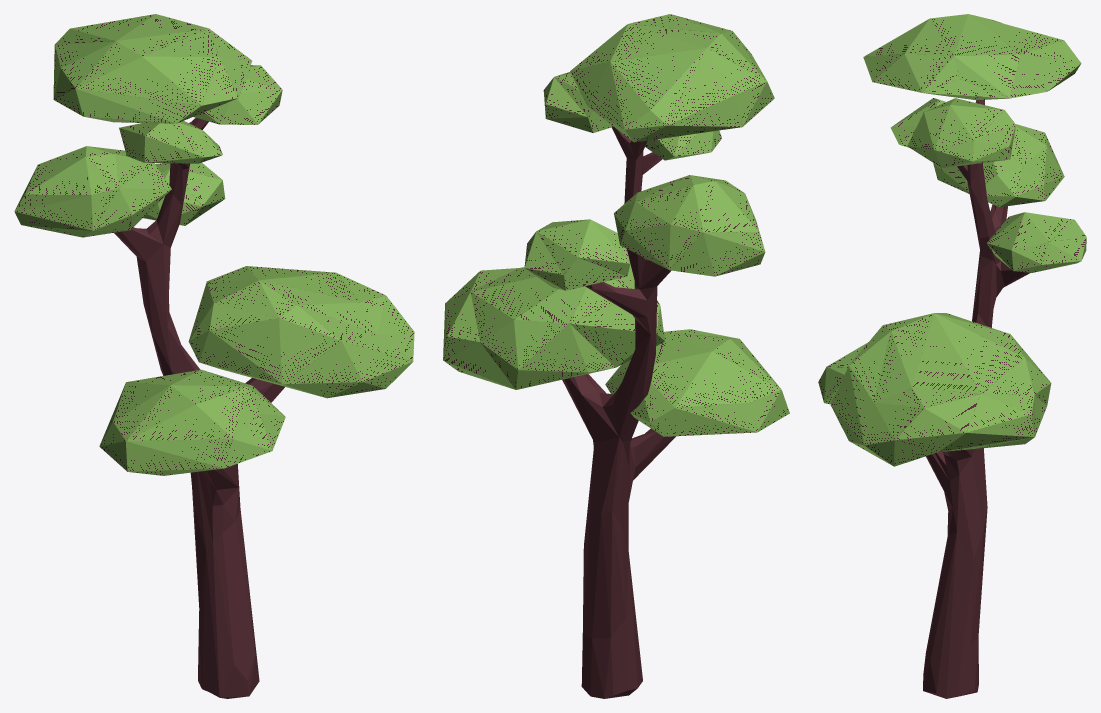
Rendered from tree_open.fbx.
The picture shows the model from 3 angles, left to right: view 1: azimuth 30°, elevation 25°; view 2: azimuth 150°, elevation 25°; view 3: azimuth 270°, elevation 25°; orthographic projection. The views are drawn at different scales.
Visible parts, largest first — view 1: leaves_Icosphere001, trunk_Cube001; view 2: leaves_Icosphere001, trunk_Cube001; view 3: leaves_Icosphere001, trunk_Cube001.
Boxes of the visible parts, <box> form: leaves_Icosphere001: <box>14,14,414,475</box>; trunk_Cube001: <box>114,118,284,698</box>; leaves_Icosphere001: <box>443,14,789,436</box>; trunk_Cube001: <box>562,126,675,698</box>; leaves_Icosphere001: <box>818,14,1086,466</box>; trunk_Cube001: <box>923,100,1030,698</box>.
Bounding box in the file's own units: 4.75 × 8.9 × 3.45.
1 material, 1 textured.
